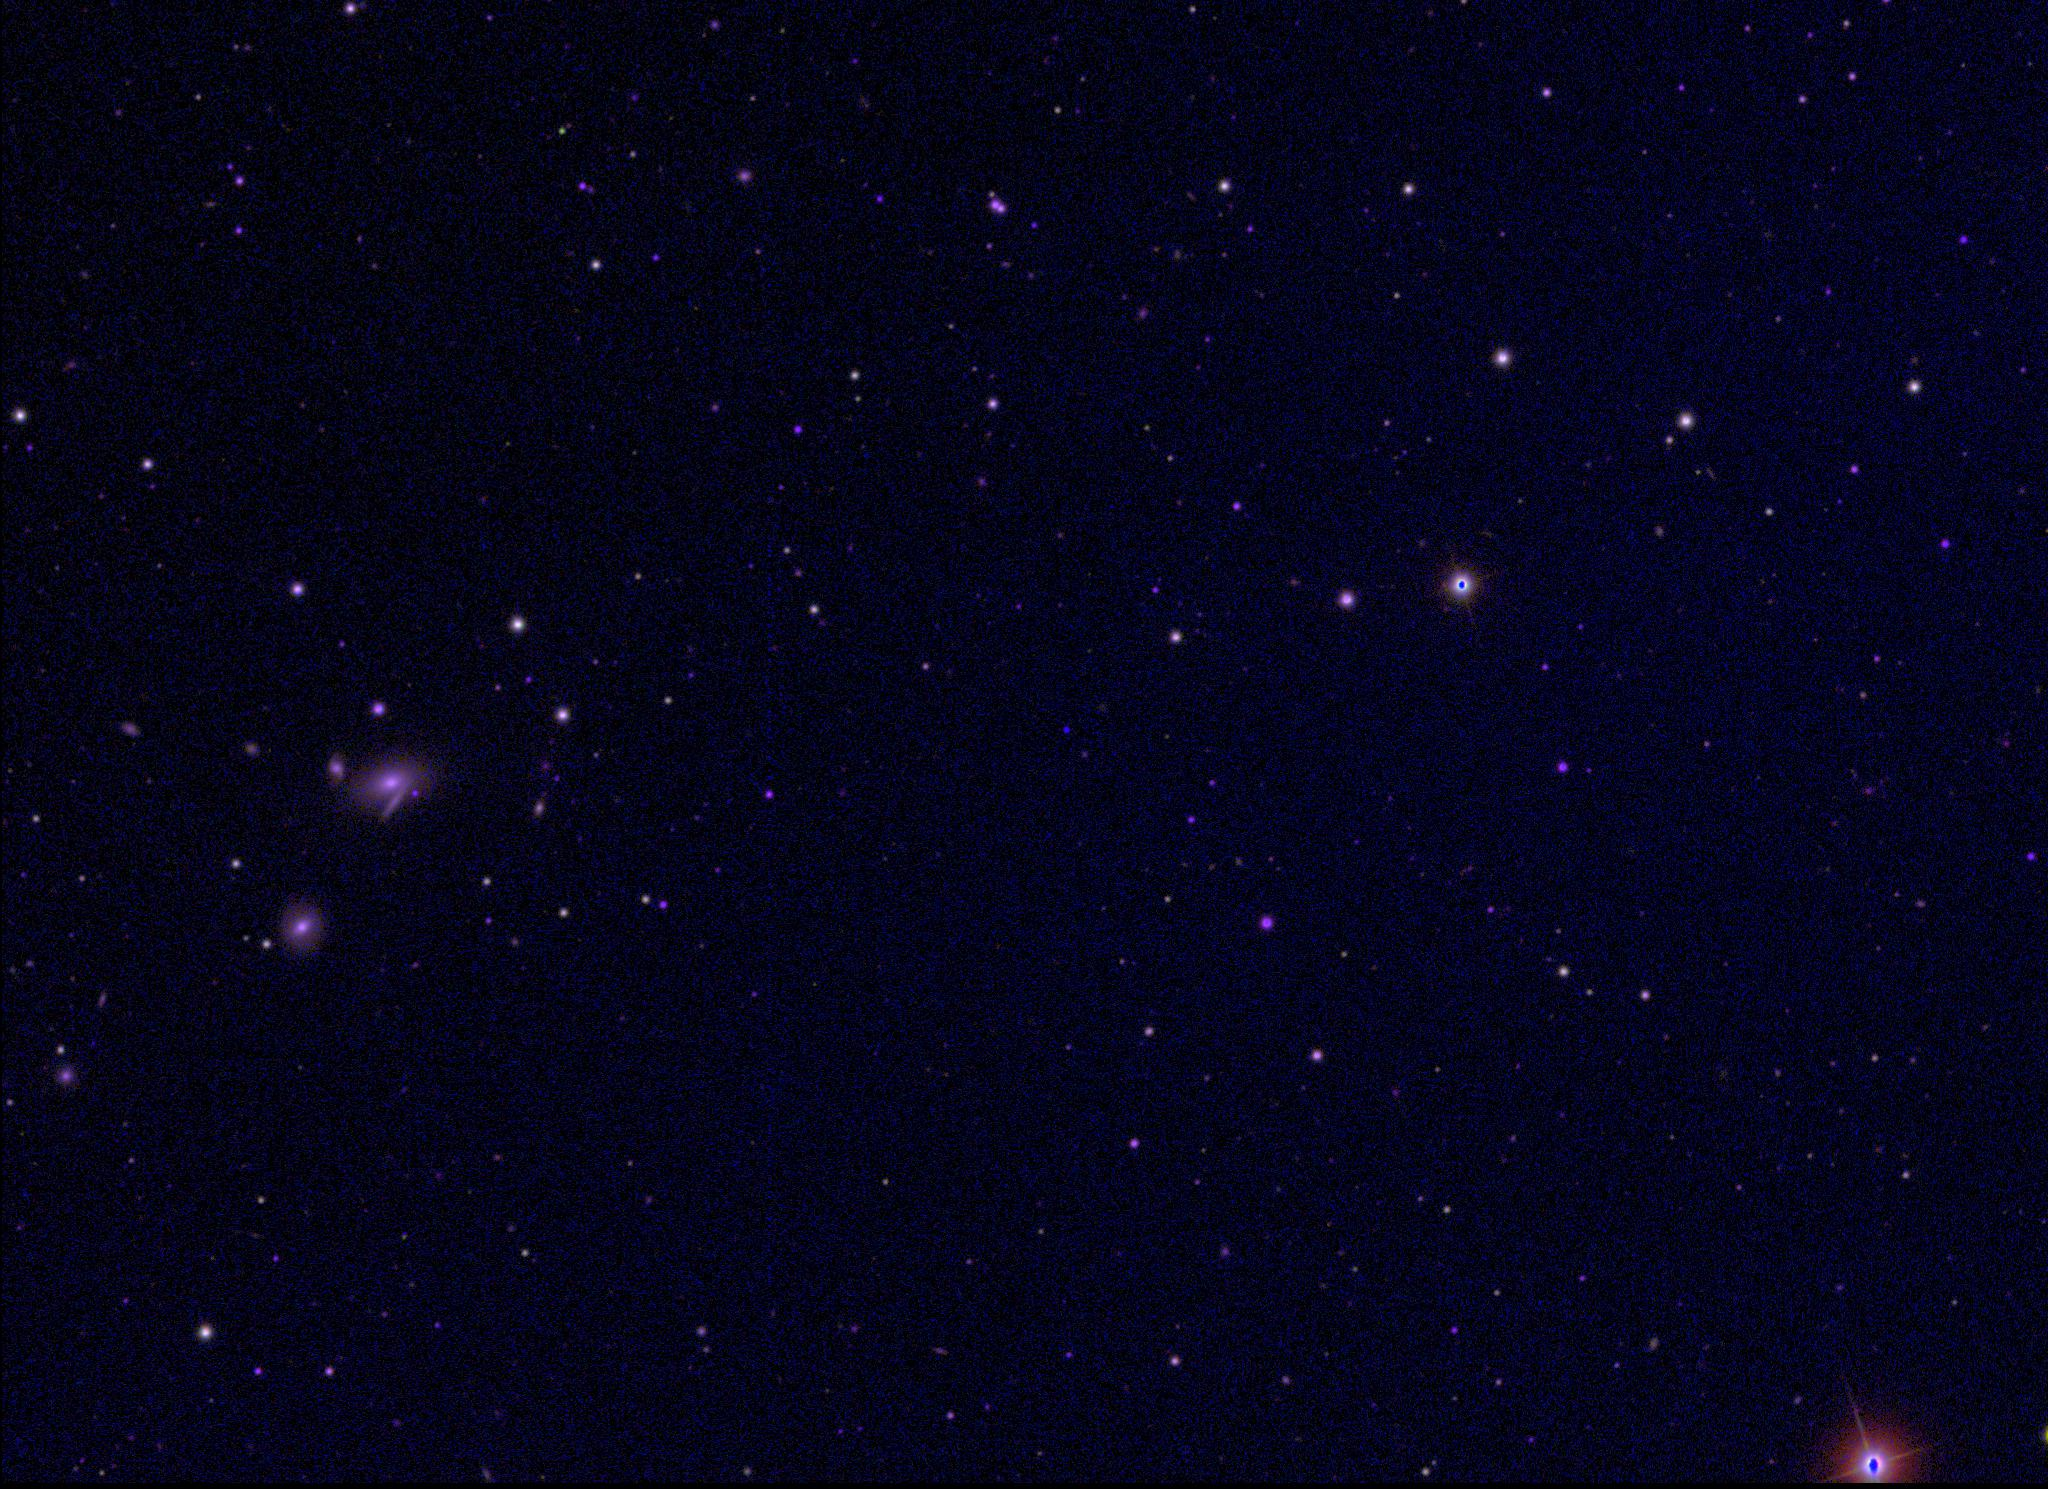L: (1057, 719, 1072, 733)
